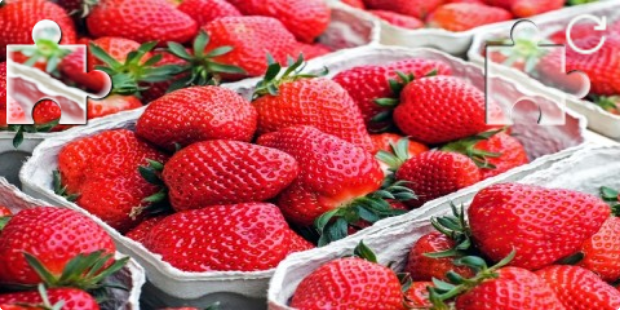target: (485, 20, 591, 125)
